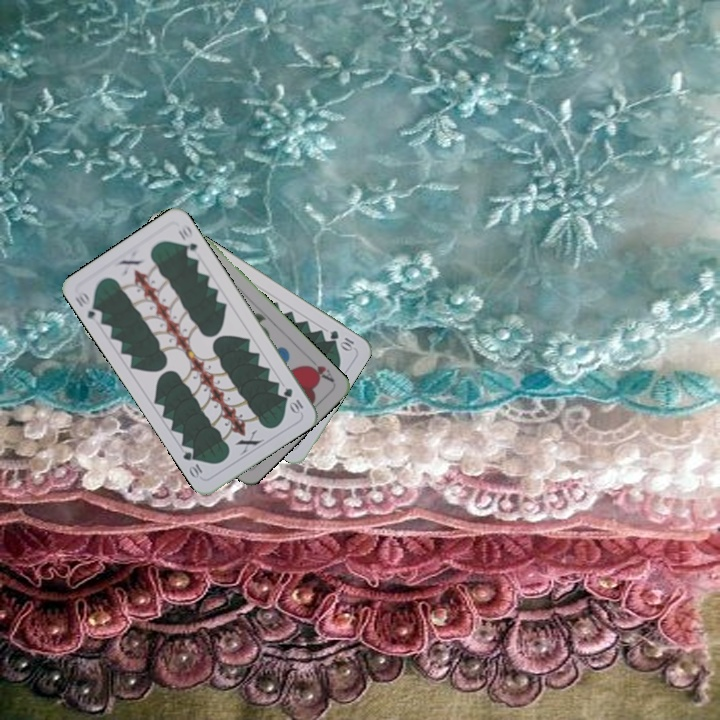G10: (71, 286, 105, 325), (325, 326, 357, 353), (279, 384, 306, 416)
HA: (301, 353, 337, 385)
